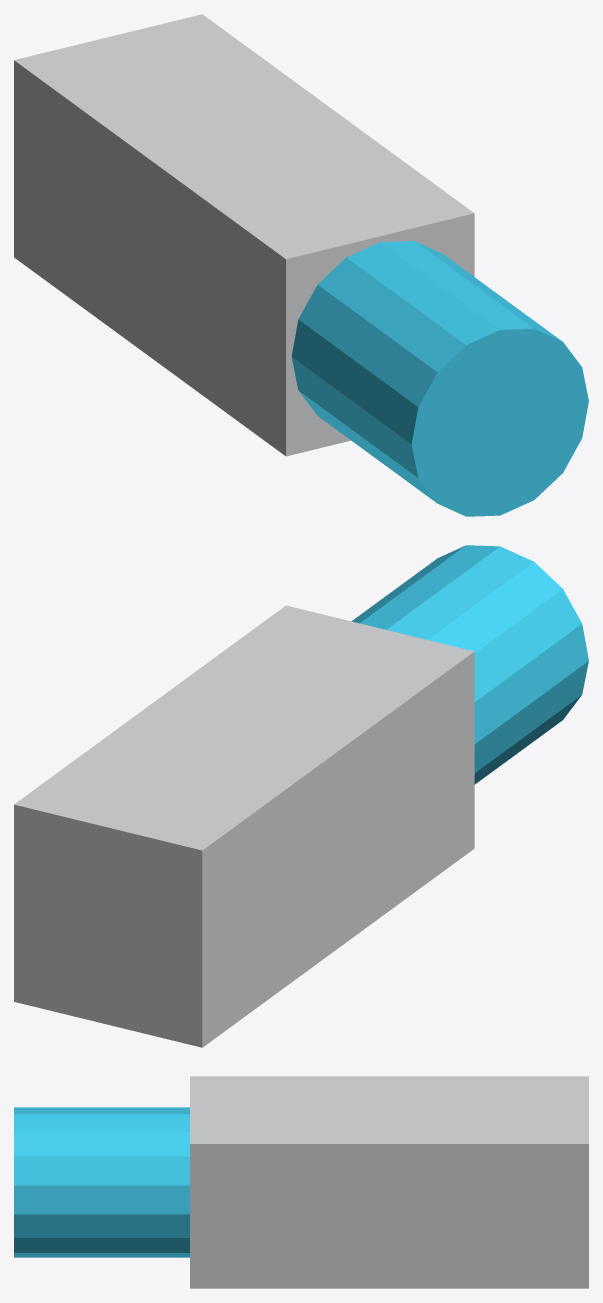
File: water_dispenser.glb
3 views of the same model, one above another, from view 1: azimuth 30°, elevation 25°; view 2: azimuth 150°, elevation 25°; view 3: azimuth 270°, elevation 25° (orthographic). The views are drawn at different scales.
Visible parts, largest first — view 1: base, bottle; view 2: base, bottle; view 3: base, bottle.
Part boxes in pixels (<box>): base: <box>14,14,474,456</box>; bottle: <box>291,241,588,516</box>; base: <box>14,605,474,1047</box>; bottle: <box>351,545,588,784</box>; base: <box>190,1076,588,1288</box>; bottle: <box>14,1107,189,1257</box>.
Bounding box in the file's own units: 0.34 × 0.38 × 1.23.
